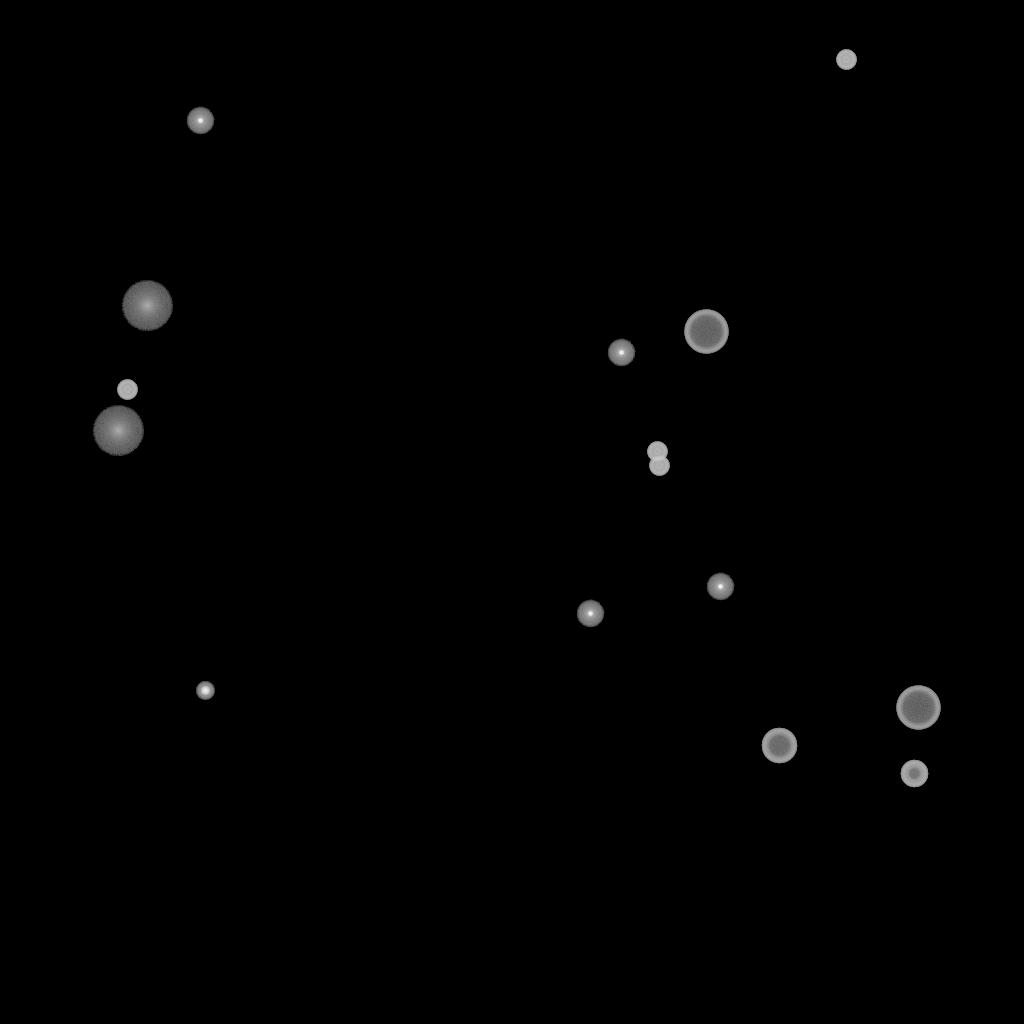depth:-10: (706, 573, 734, 601), (576, 600, 604, 628), (186, 107, 214, 135), (607, 339, 635, 367)
depth:-20: (196, 682, 214, 700)
depth:-40: (647, 442, 667, 462), (117, 380, 137, 400), (836, 50, 856, 70), (649, 456, 669, 476)
depth:-50: (900, 760, 928, 788)
depth:-60: (761, 728, 797, 764)
depth:-70: (684, 310, 728, 354), (896, 686, 940, 730)
depth:20: (121, 281, 173, 331), (92, 406, 144, 456)
